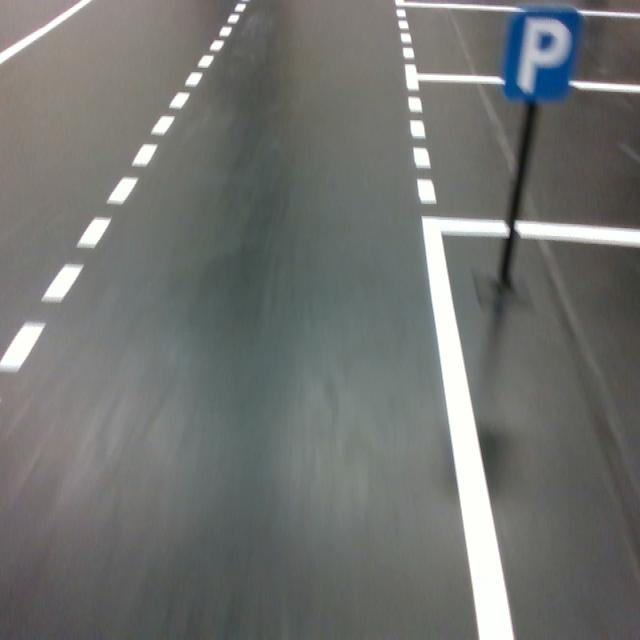parking-sign: (501, 6, 586, 104)
